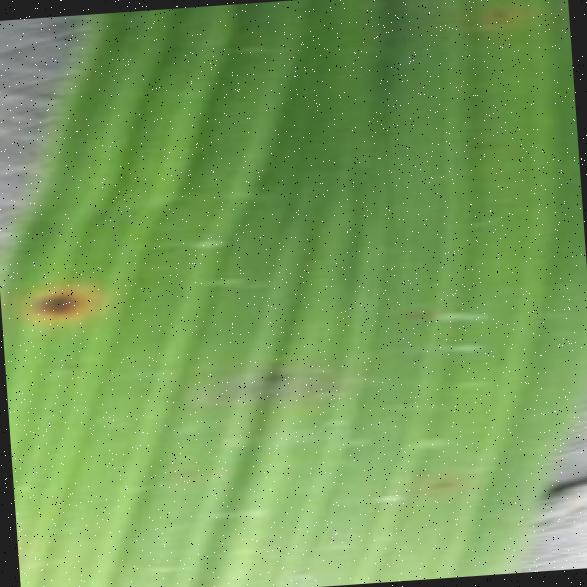Brown_Spot: (15, 274, 98, 326), (420, 466, 458, 496), (251, 362, 292, 388), (481, 0, 510, 21)
